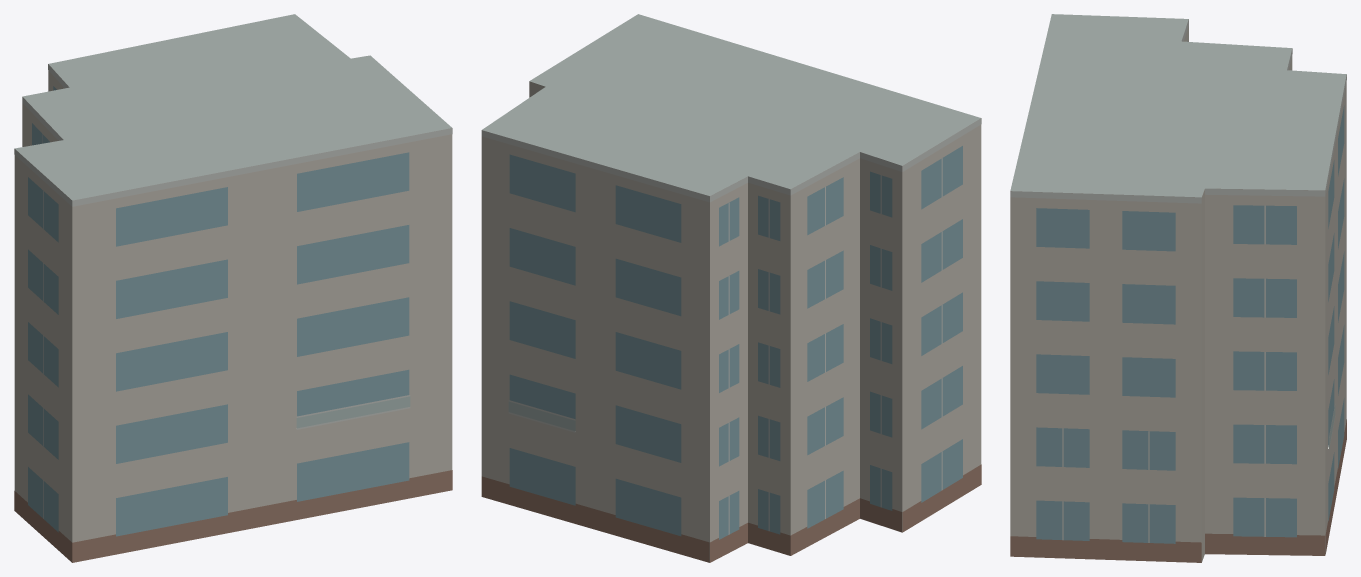
The model's file is survey-upis-32879236.glb.
The picture shows the model from 3 angles, left to right: view 1: azimuth 30°, elevation 25°; view 2: azimuth 150°, elevation 25°; view 3: azimuth 270°, elevation 25°; orthographic projection.
Parts seen in each view (by area): view 1: survey-upis-32879236.tmp; view 2: survey-upis-32879236.tmp; view 3: survey-upis-32879236.tmp.
Boxes of the visible parts, x1,y1,x2,y2 form: survey-upis-32879236.tmp: (14, 14, 452, 562); survey-upis-32879236.tmp: (481, 14, 981, 562); survey-upis-32879236.tmp: (1010, 14, 1346, 562).
Size of the model in its own units: 15.34 by 14.25 by 11.9.
